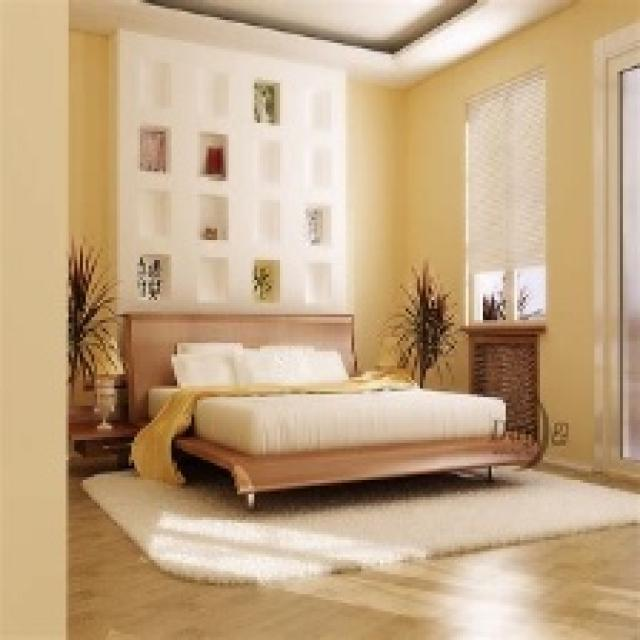Bed: (117, 312, 543, 508)
